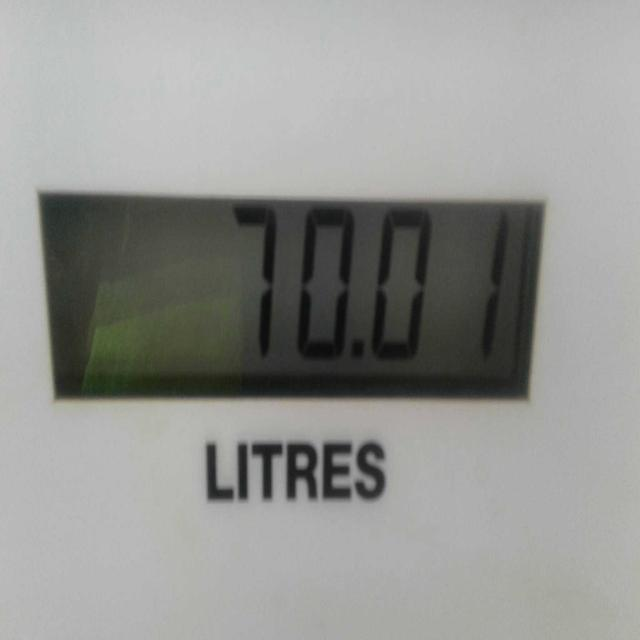.: (346, 331, 370, 363)
0: (368, 202, 432, 370), (300, 207, 354, 380)
1: (466, 208, 520, 366)
7: (227, 198, 280, 358)
